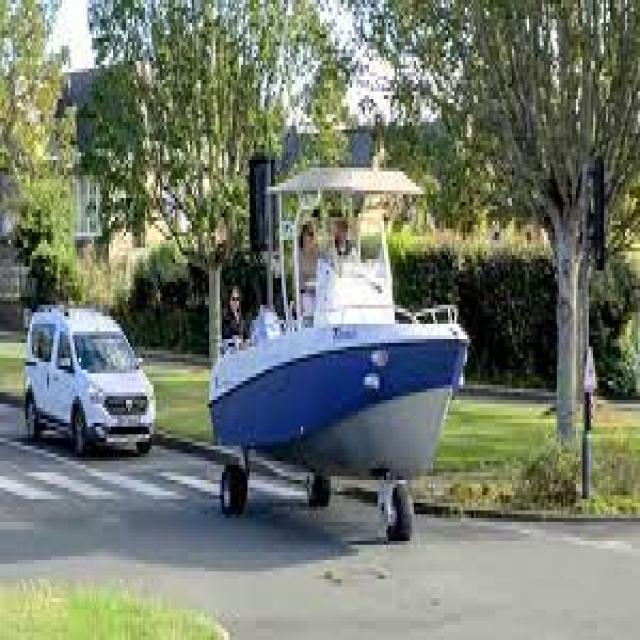ship2: (212, 168, 474, 487)
